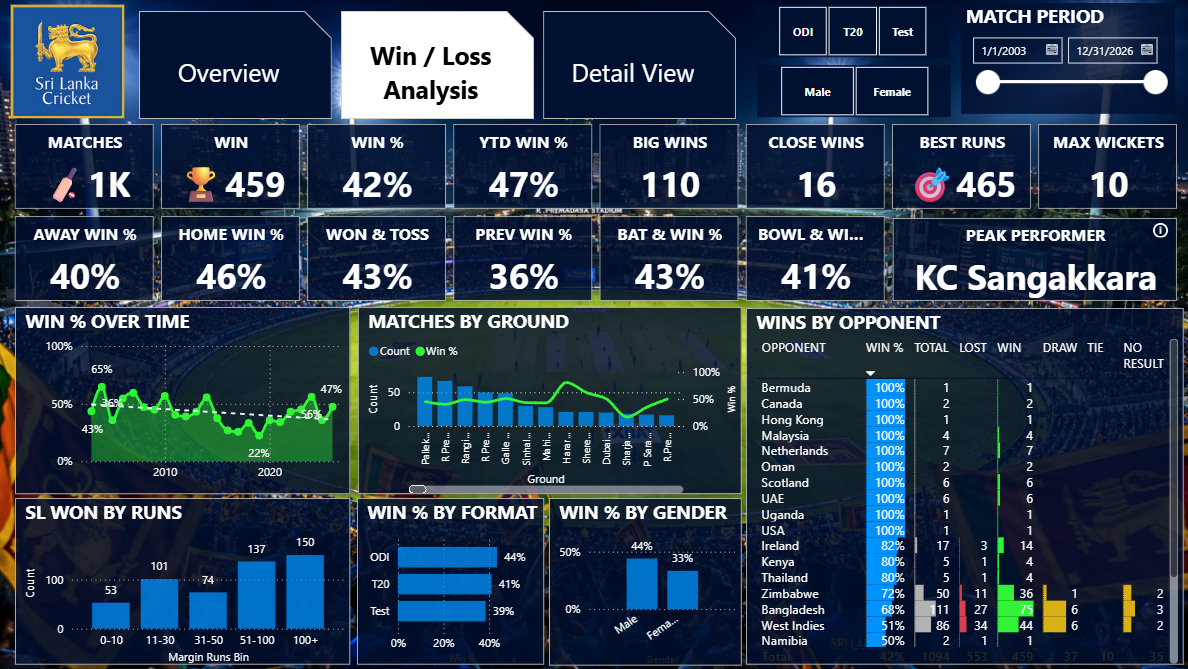

The dashboard page shown, as its layout file describes it:
{"tool":"powerbi","page":{"name":"Win / Loss Analysis","canvas":[1280,720],"ordinal":1},"visuals":[{"type":"image","box":[8.8,0,132.3,132.3],"z":0},{"type":"cardVisual","fields":{"Data":["Measures (2).No of Matches","Measures (2).WON","Measures (2).Win %","Measures (2).Win % Current Year","Measures (2).Big Wins","Measures (2).Close Wins","Measures (2).Biggest Win (Runs)","Measures (2).Biggest Win (Wickets)","Measures (2).Away Win %","Measures (2).Home Win %","Measures (2).Toss Win Match Win %","Measures (2).Win % Previous Year"]},"box":[15,133.2,1258.5,190.1],"z":1000},{"type":"clusteredBarChart","title":"WIN % BY FORMAT","fields":{"Category":["SLcricketData.Match_Format"],"Y":["Measures (2).Win %"]},"box":[385.5,534.8,200.8,179.3],"z":2000},{"type":"slicer","title":"MATCH FORMAT","fields":{"Values":["SLcricketData.Match_Format"]},"box":[813.4,5,208.3,56.1],"z":4000},{"type":"slicer","title":"MATCH PERIOD","fields":{"Values":["Calendar.Date"]},"box":[1034.2,3.7,229.6,118.5],"z":5000},{"type":"areaChart","title":"WIN % OVER TIME","fields":{"Category":["Calendar.Date.Variation.Date Hierarchy.Year","Calendar.Date.Variation.Date Hierarchy.Quarter","Calendar.Date.Variation.Date Hierarchy.Month","Calendar.Date.Variation.Date Hierarchy.Day"],"Y":["Measures (2).Win %"]},"box":[18.3,329.7,360,200.8],"z":6000},{"type":"slicer","title":"MATCH FORMAT","fields":{"Values":["SLcricketData.Gender"]},"box":[814.7,69.9,208.3,56.1],"z":7000},{"type":"lineStackedColumnComboChart","title":"MATCHES BY GROUND","fields":{"Category":["SLcricketData.Ground"],"Y":["CountNonNull(SLcricketData.Ground)"],"Y2":["Measures (2).Win %"]},"box":[386.6,329.7,412.3,200.8],"z":8000},{"type":"pageNavigator","box":[151.4,11.6,642.6,116.5],"z":9000},{"type":"clusteredColumnChart","title":"SL WON BY RUNS","fields":{"Y":["CountNonNull(SLcricketData.Margin)"],"Category":["BinValues.Margin Runs Bin"]},"box":[18.3,534.8,360,179.3],"z":10000},{"type":"clusteredColumnChart","title":"WIN % BY GENDER","fields":{"Category":["SLcricketData.Gender"],"Y":["Measures (2).Win %"]},"box":[591.7,534.8,207.2,180.4],"z":11000},{"type":"tableEx","title":"WINS BY OPPONENT","fields":{"Values":["SLcricketData.Opponent","Measures (2).Win %","SLcricketData.Winner","Measures (2).LOST_TABLE","Measures (2).WIN_TABLE","Measures (2).DRAW_TABLE","Measures (2).TIE_TABLE","Measures (2).NO RESULT_TABLE"]},"box":[803.2,330.7,470.3,383.4],"z":15500},{"type":"cardVisual","fields":{"Data":["Measures (2).Most Frequent Player of Match"]},"box":[957.4,234,310.4,89.5],"z":15501},{"type":"actionButton","box":[1236,234.1,24.7,25.8],"z":15502}]}

Visuals, with their boxes in screenshot pixels (x1, y1, x2, y2), scaled from the page's 1280x720 canvas onto the 1188x669 screenshot:
image: 8/0/131/123
cardVisual - Measures (2).No of Matches x Measures (2).WON: 14/124/1182/300
"WIN % BY FORMAT" clusteredBarChart: 358/497/544/664
"MATCH FORMAT" slicer: 755/5/948/57
"MATCH PERIOD" slicer: 960/3/1173/114
"WIN % OVER TIME" areaChart: 17/306/351/493
"MATCH FORMAT" slicer: 756/65/949/117
"MATCHES BY GROUND" lineStackedColumnComboChart: 359/306/741/493
pageNavigator: 141/11/737/119
"SL WON BY RUNS" clusteredColumnChart: 17/497/351/664
"WIN % BY GENDER" clusteredColumnChart: 549/497/741/665
"WINS BY OPPONENT" tableEx: 745/307/1182/664
cardVisual - Measures (2).Most Frequent Player of Match: 889/217/1177/301
actionButton: 1147/218/1170/241
